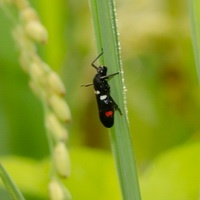insect: (81, 49, 121, 127)
